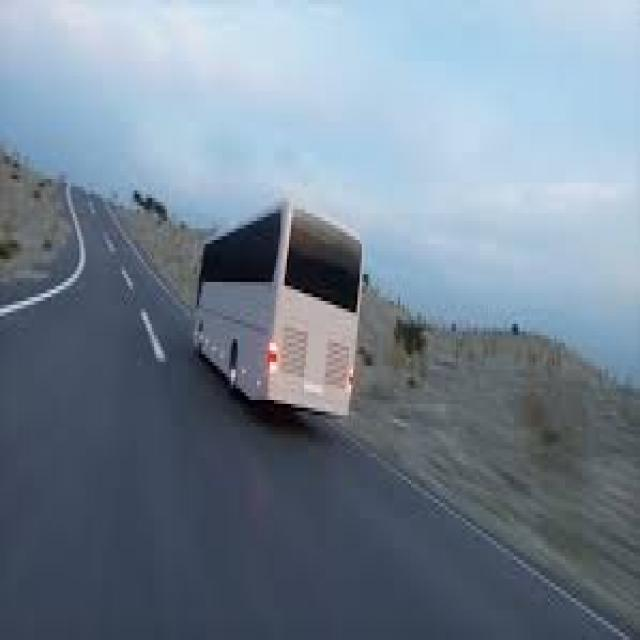BUS: (173, 156, 362, 472)
